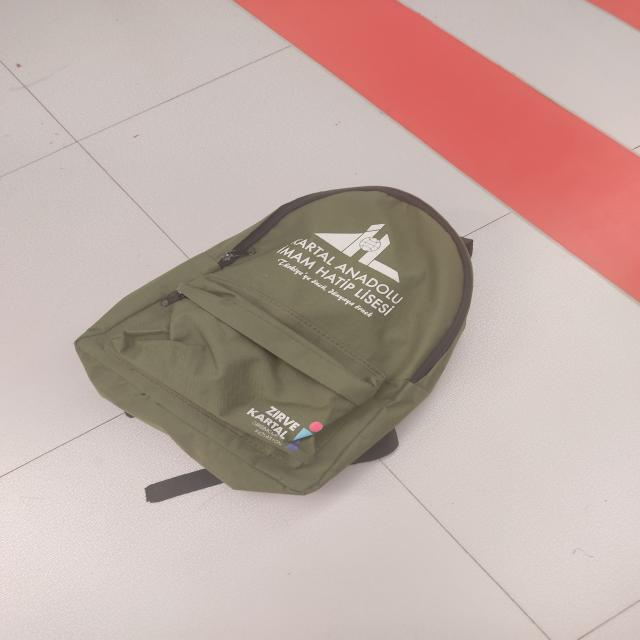bag: (70, 180, 496, 501)
